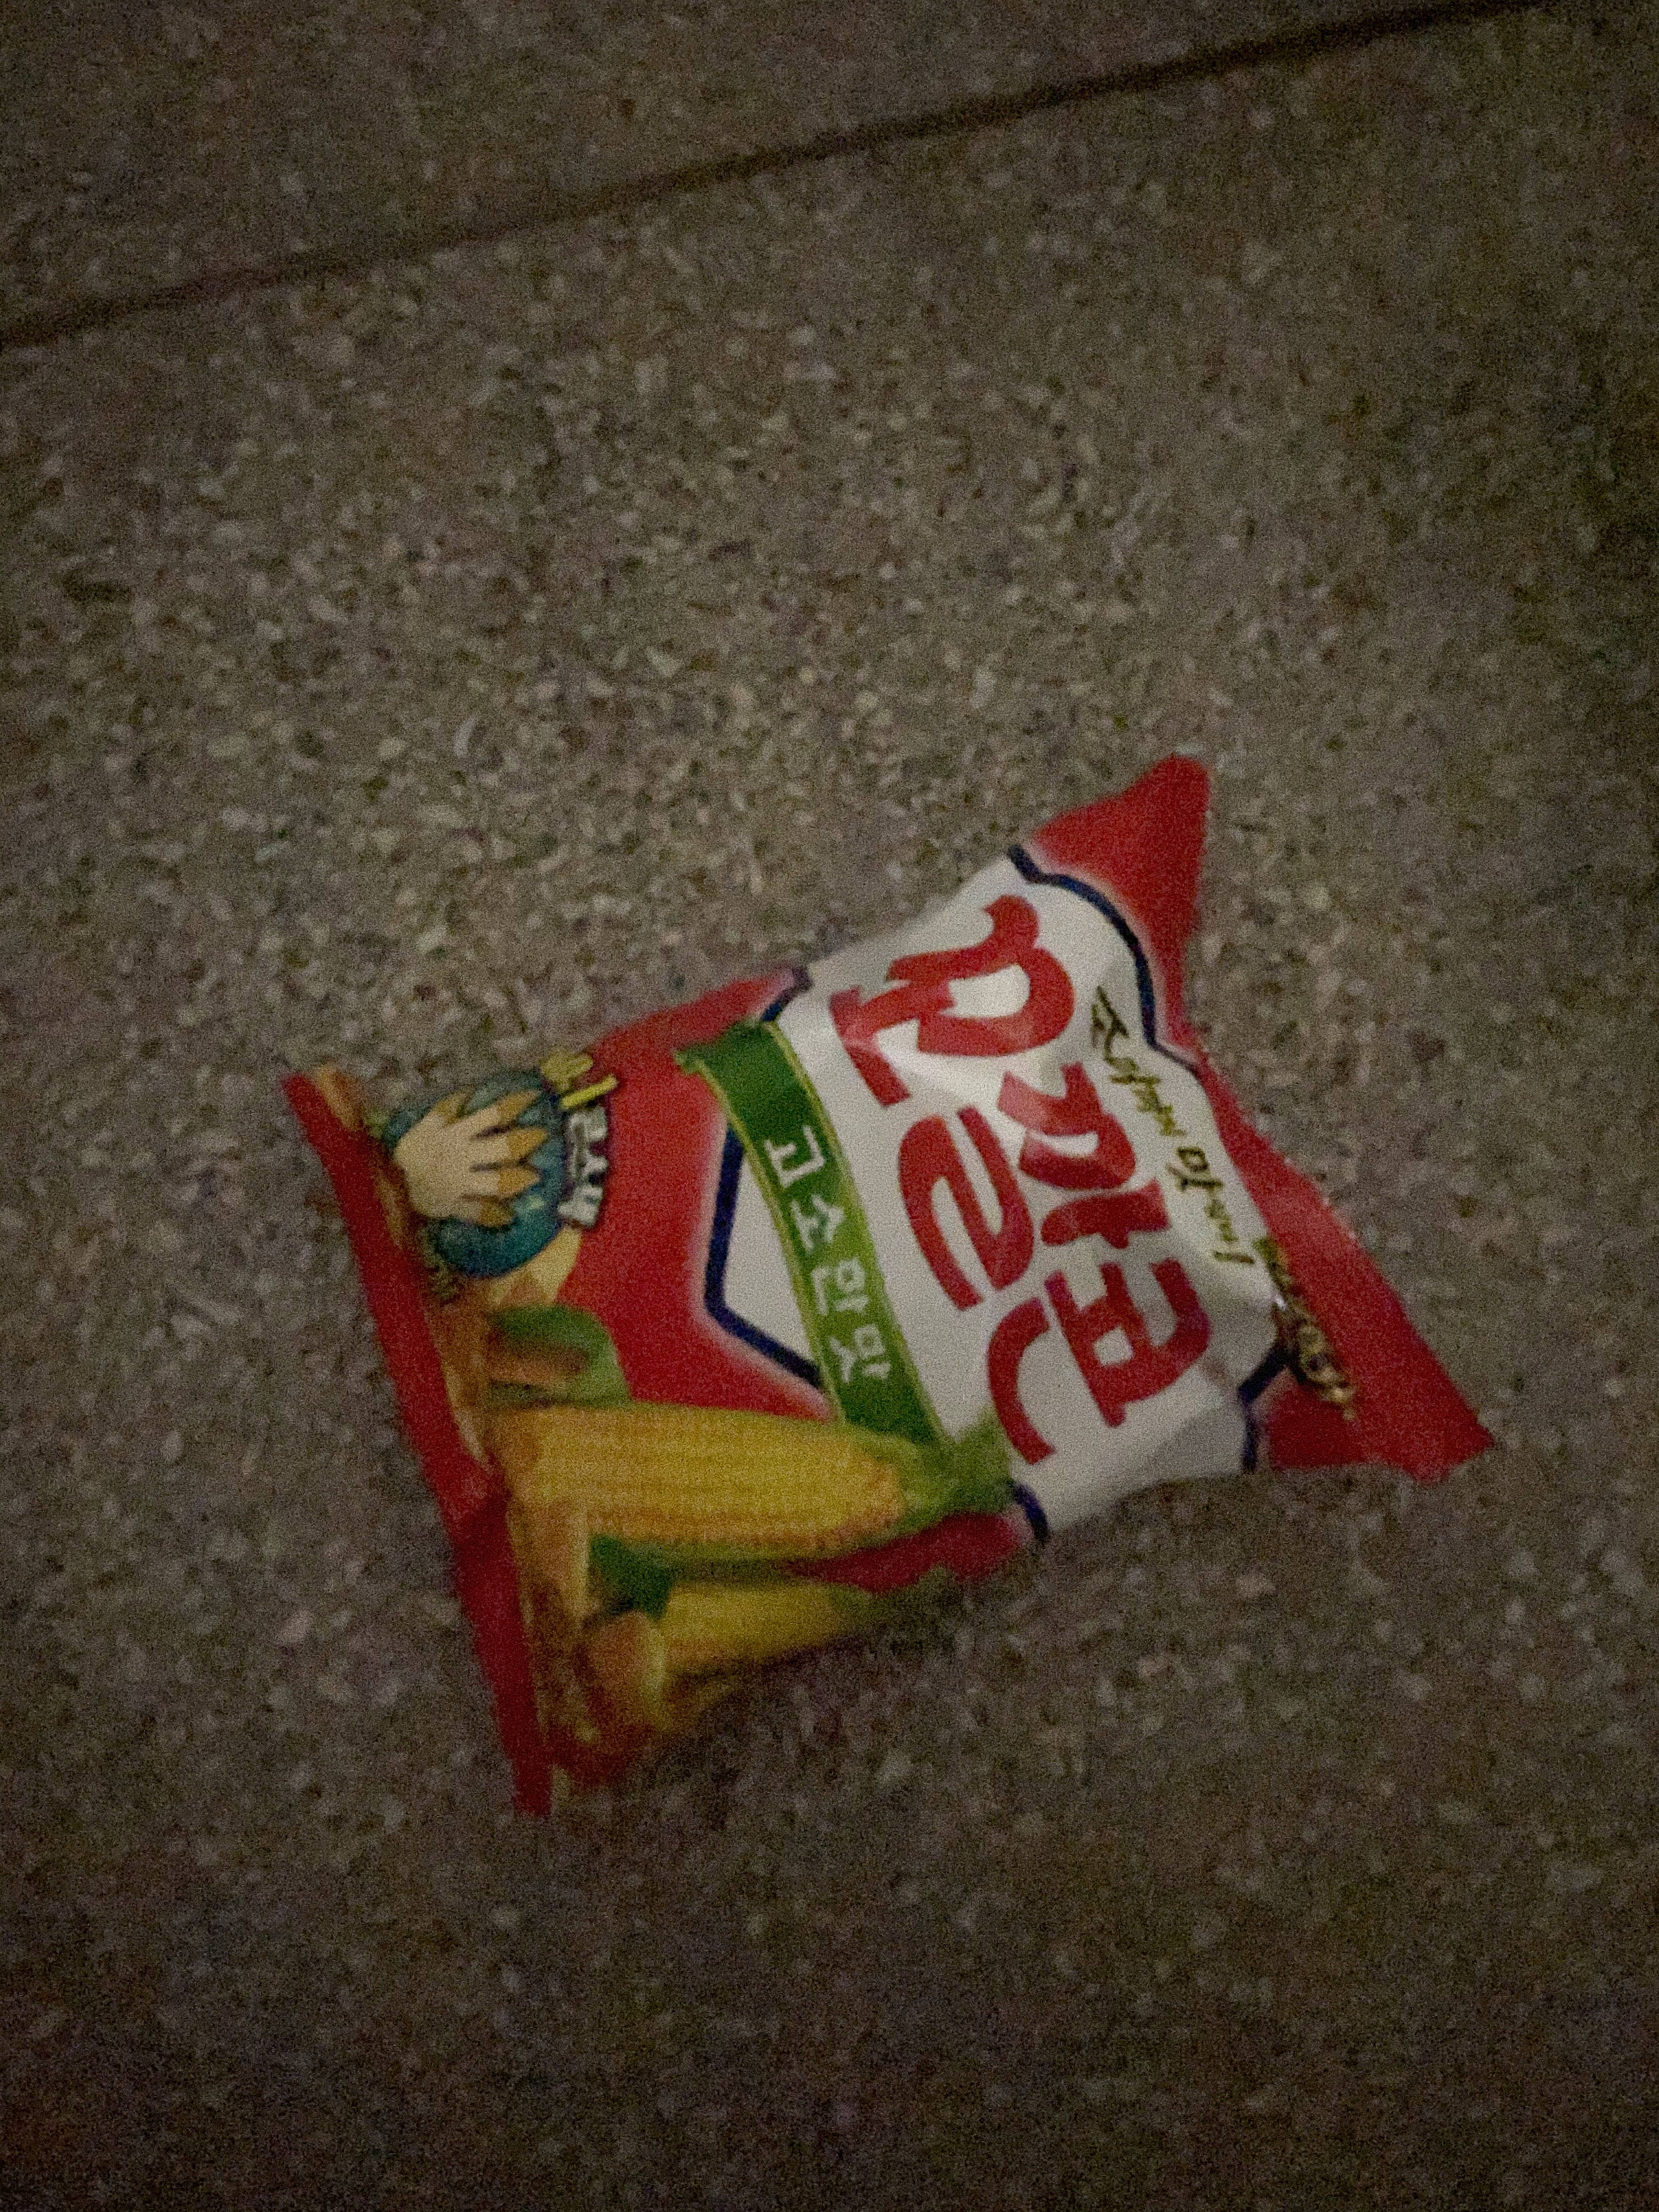ggoggalcon: (272, 733, 1516, 1843)
